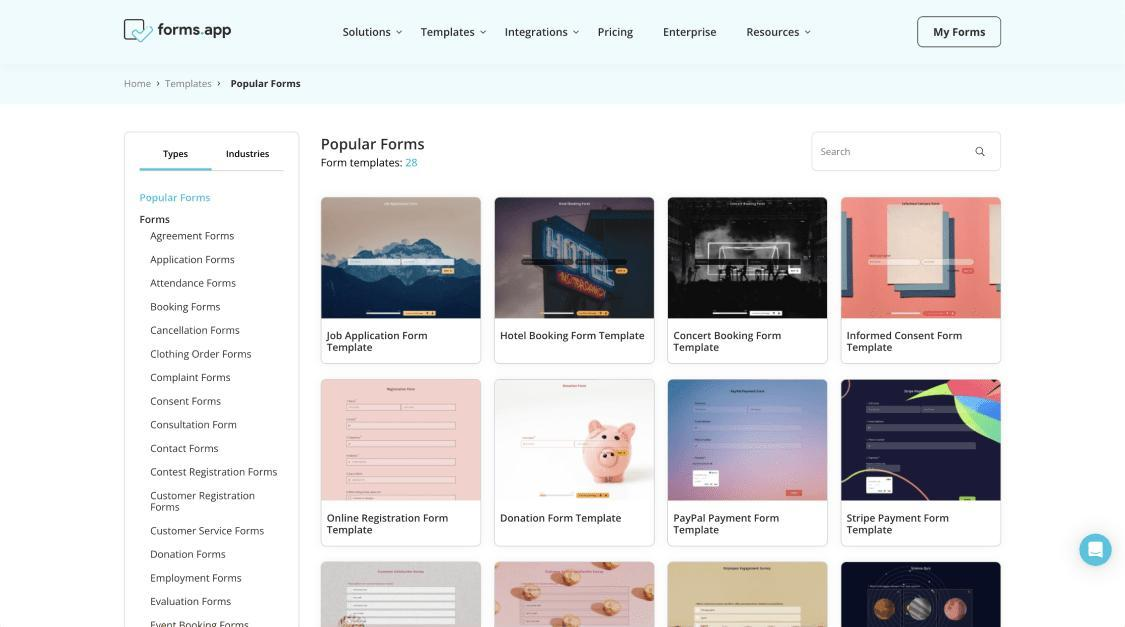button: (917, 18, 1003, 47)
icon: (1076, 531, 1119, 571), (973, 146, 989, 159)
input: (813, 136, 1002, 173)
label: (505, 25, 571, 44), (744, 26, 804, 42), (421, 26, 479, 41), (664, 26, 721, 40), (343, 25, 395, 39), (598, 26, 639, 41)
